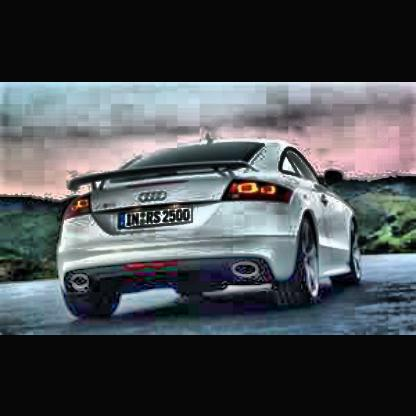Audi TT Hatchback 2011: (58, 140, 364, 317)
